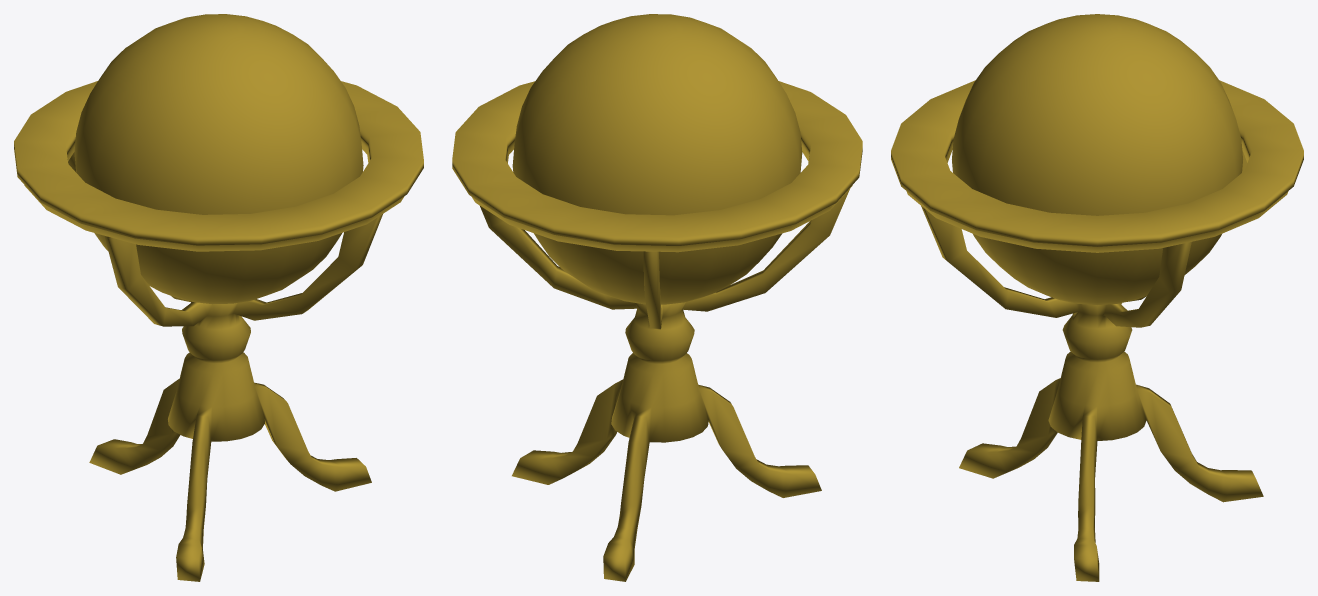
The model's file is Tools_Globe.fbx.
3 renders of one model, left to right at view 1: azimuth 30°, elevation 25°; view 2: azimuth 150°, elevation 25°; view 3: azimuth 270°, elevation 25°, orthographic.
Visible parts, largest first — view 1: Globe; view 2: Globe; view 3: Globe.
Boxes of the visible parts, bbox=[...] form: Globe: bbox=[14, 14, 423, 581]; Globe: bbox=[452, 14, 862, 581]; Globe: bbox=[891, 14, 1303, 581].
Size of the model in its own units: 0.262 by 0.3386 by 0.262.
